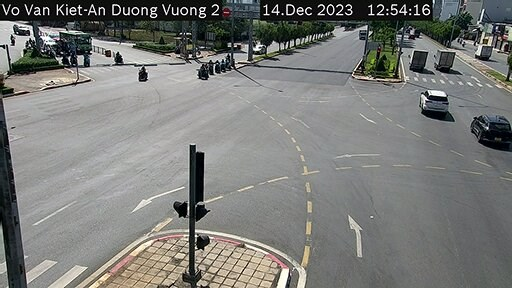car: (472, 113, 507, 149), (419, 83, 447, 114)
truck: (408, 48, 429, 72), (434, 49, 455, 72), (476, 43, 492, 57)
